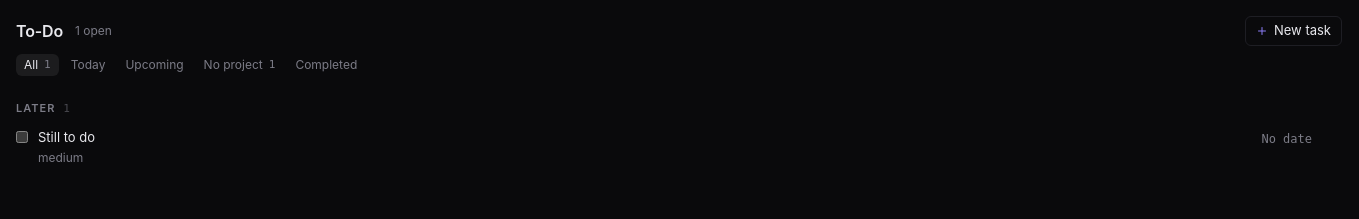
TodoView Completed filter › has its own empty state
The image size is (1359, 219).
What coordinates should you click on to do the following:
click the button "Completed"
I would click on:
 (326, 65)
Its box is [287,54,365,76].
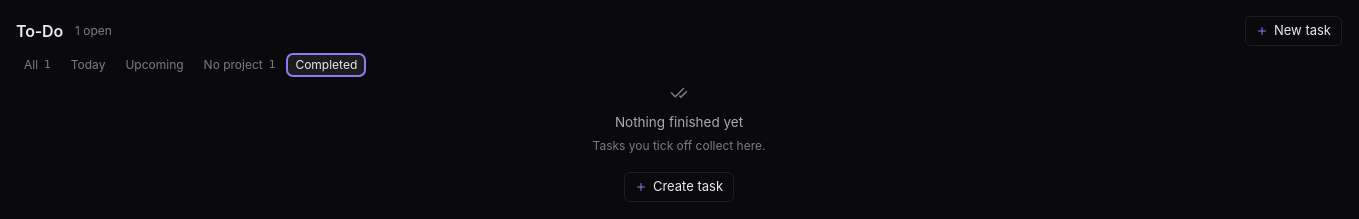
Expected: the text "Nothing finished yet" is shown, [615,112,743,132]
